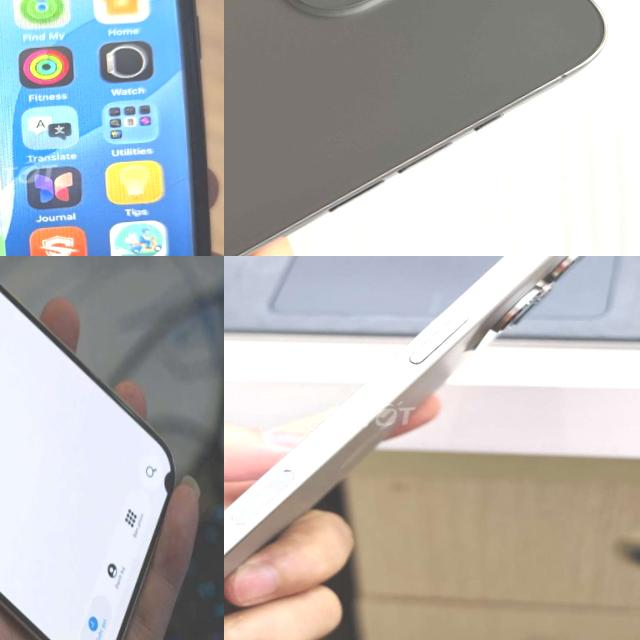gen_15: (224, 0, 630, 256), (0, 256, 194, 640)
gen_16: (224, 256, 581, 575)
gen_7_8: (0, 0, 224, 256)
